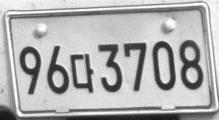0: (151, 39, 176, 91)
3: (97, 43, 122, 93)
6: (46, 44, 70, 95)
7: (123, 42, 148, 91)
8: (178, 39, 203, 89)
9: (18, 45, 42, 95)
다: (70, 53, 95, 93)
